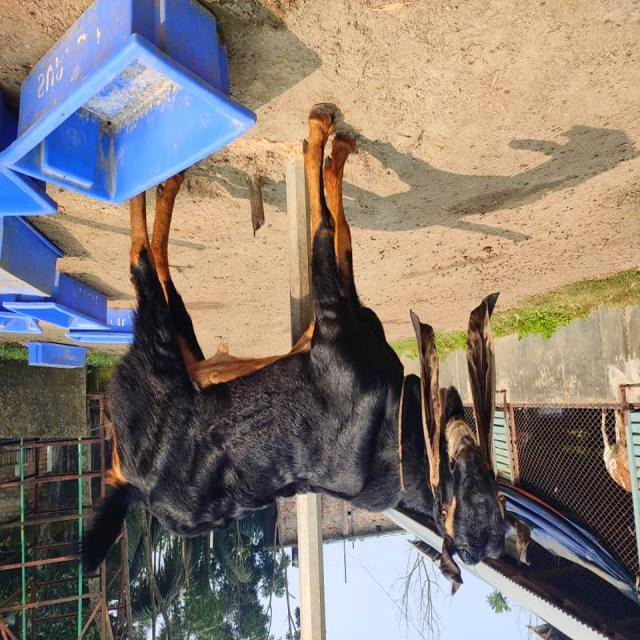Goat: (77, 104, 527, 594), (600, 407, 639, 494)
